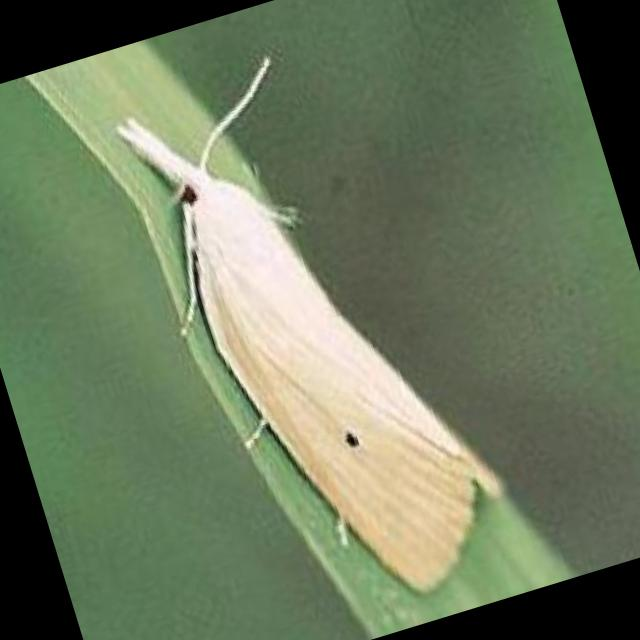stem-borer: (102, 27, 527, 640)
